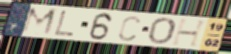6: (89, 12, 115, 41)
C: (117, 15, 142, 42)
H: (170, 18, 210, 49)
L: (53, 9, 77, 38)
M: (19, 6, 60, 37)
O: (147, 16, 177, 45)
